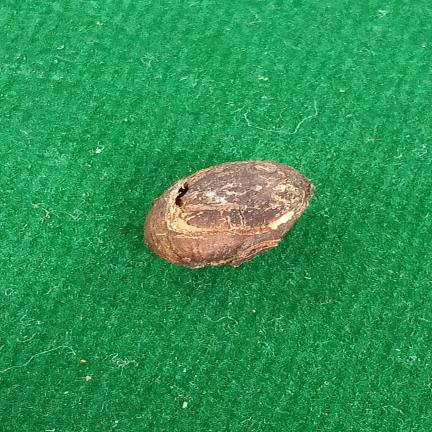husk: (144, 160, 314, 269)
